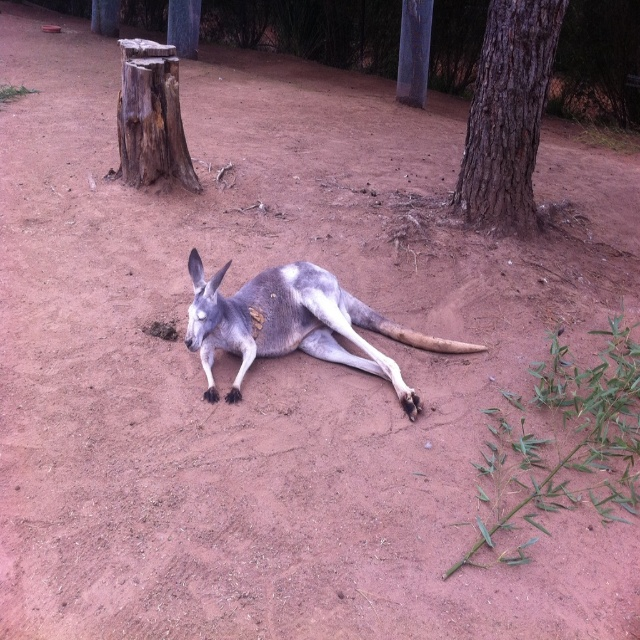Kangaroo: (182, 249, 489, 423)
